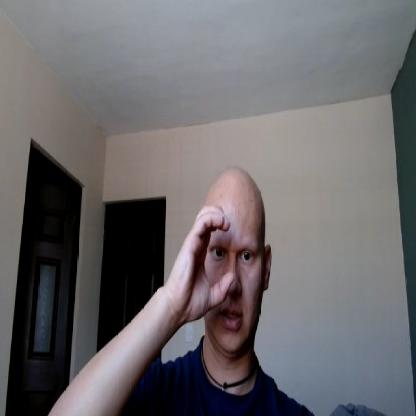C: (169, 204, 234, 322)
